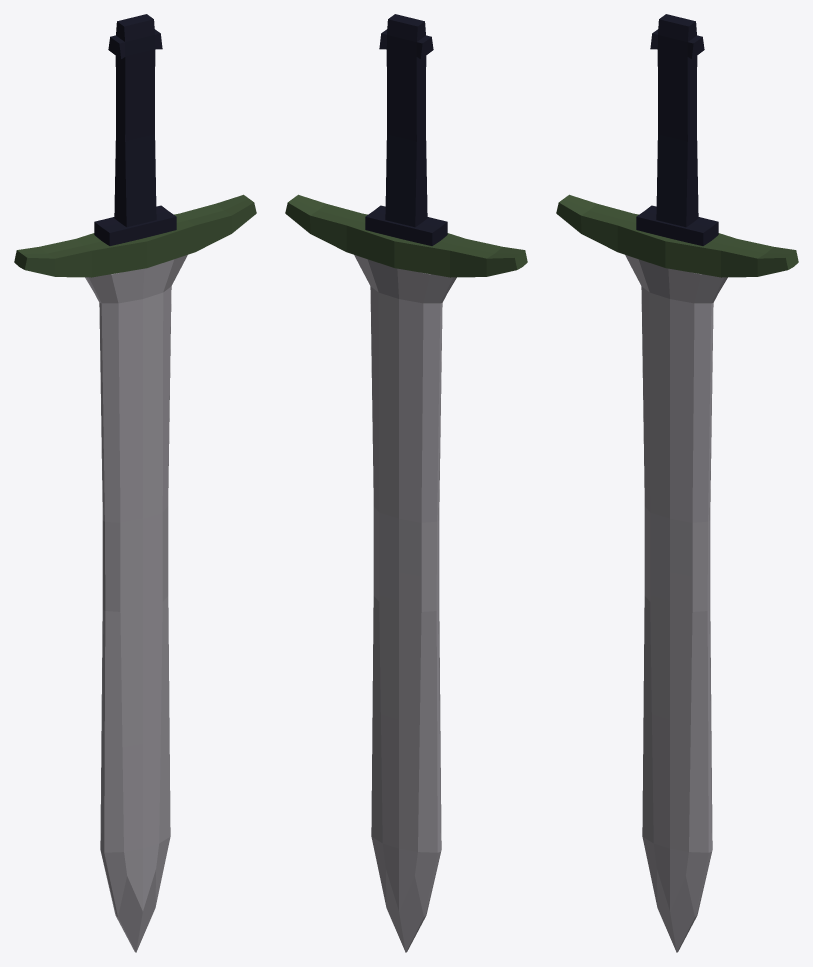
Rendered from Great Sword1 Model.fbx.
3 renders of one model, left to right at view 1: azimuth 30°, elevation 25°; view 2: azimuth 150°, elevation 25°; view 3: azimuth 330°, elevation 25°, orthographic.
Parts seen in each view (by area): view 1: Sword 1; view 2: Sword 1; view 3: Sword 1.
Part boxes in pixels (left/top/right/bottom): Sword 1: left=14, top=14, right=256, bottom=952; Sword 1: left=285, top=14, right=527, bottom=952; Sword 1: left=556, top=14, right=798, bottom=952.
Bounding box in the file's own units: 83.45 × 320 × 15.03.
